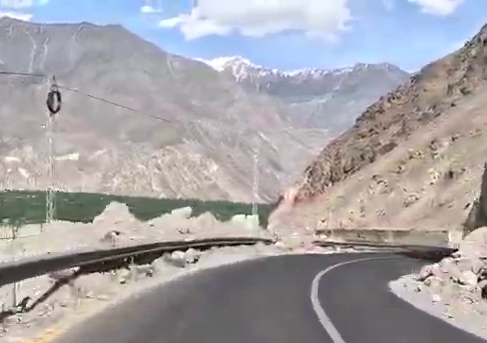stright: (210, 234, 437, 343)
